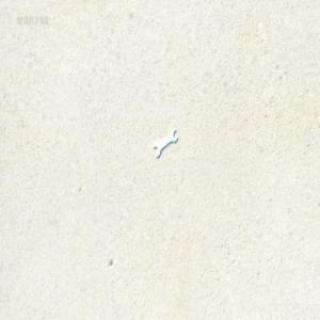Wrenchtrack_idkeyframe: (151, 124, 175, 154)
